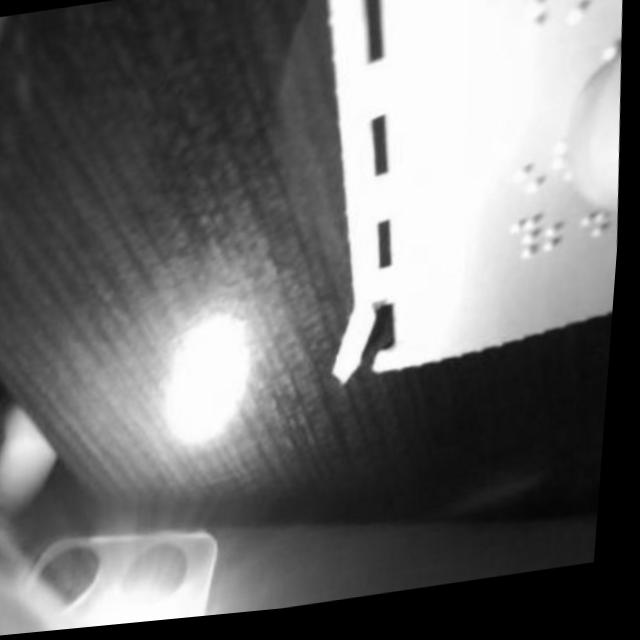braiile: (544, 215, 576, 272)
